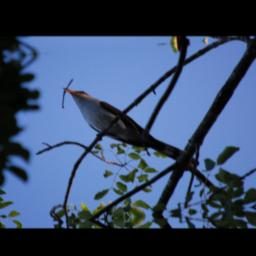Cuckoo: (60, 77, 184, 167)
